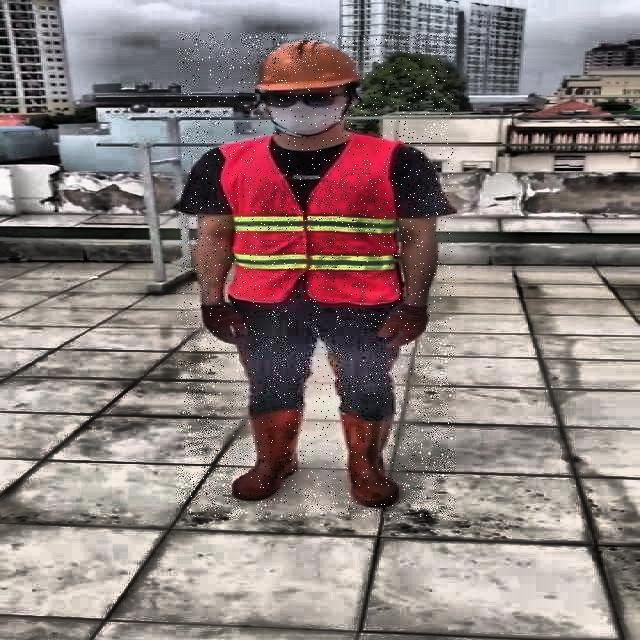safety_helmet: (254, 39, 366, 94)
safety_jacket: (226, 135, 402, 304)
